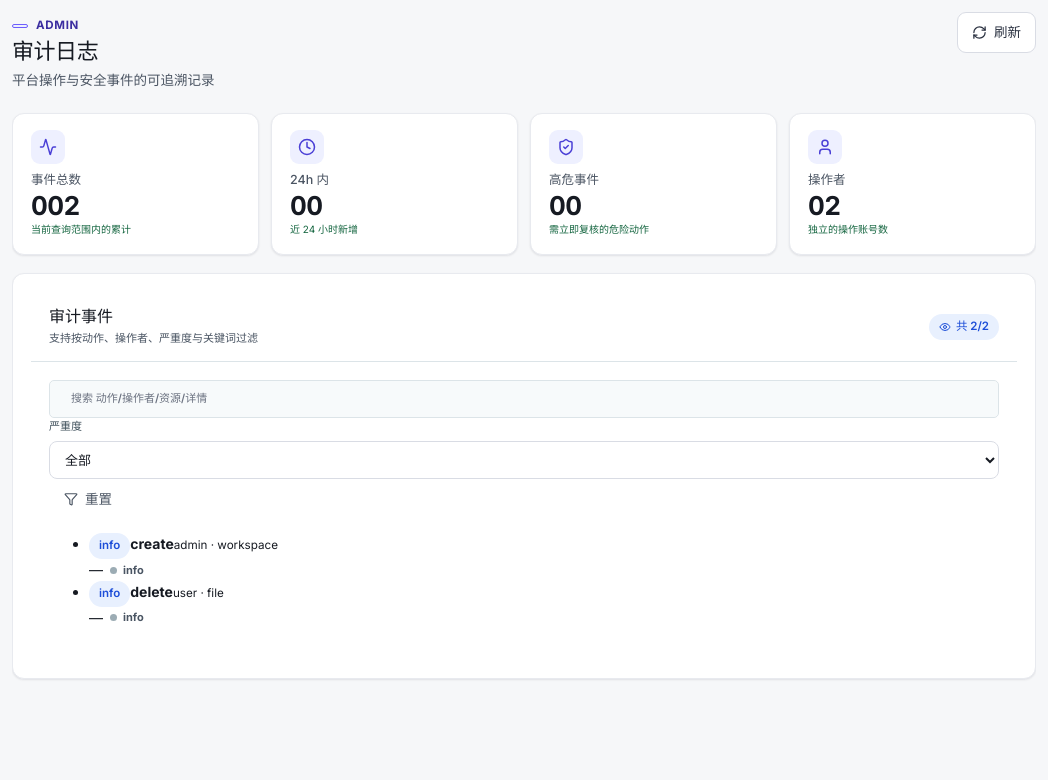
Scenario: AdminAuditLogsPage › 审计日志支持过滤
Expected: the number of list items with test id "audit-logs-item" is 2, [89,534,278,578]; [89,581,224,626]
Type "delete" into the search field with test id "audit-filter-input". click: (524, 399)
box: [59,382,989,416]
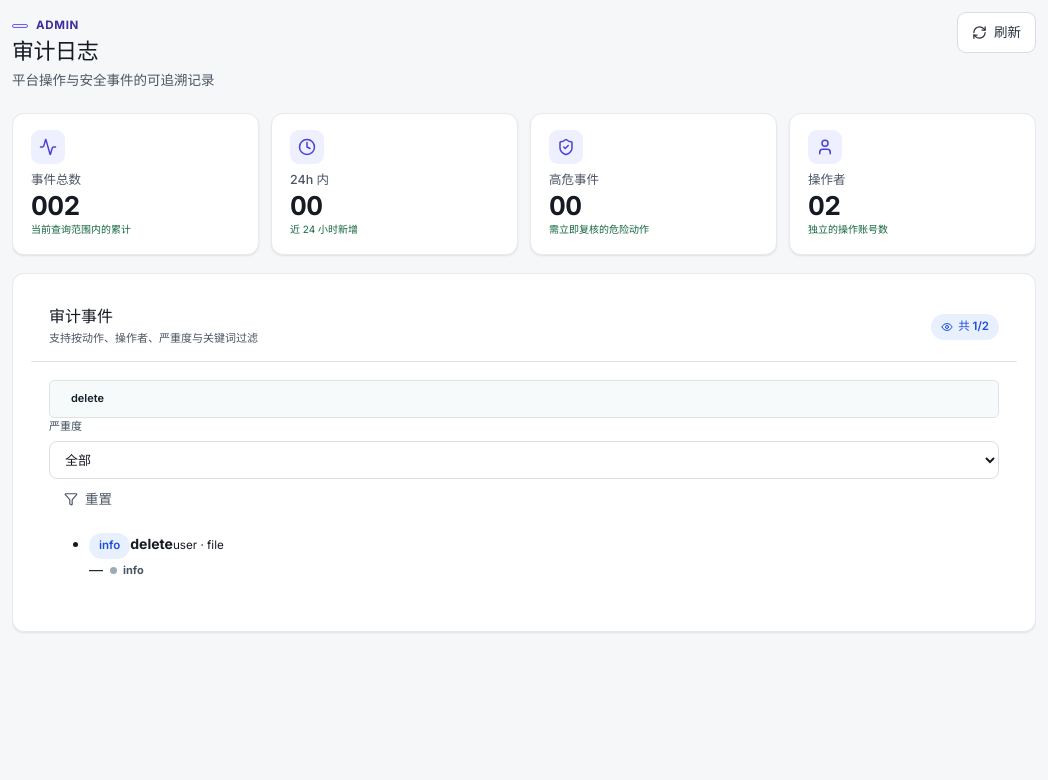
Expected: the number of list items with test id "audit-logs-item" is 1, [89,534,224,578]
